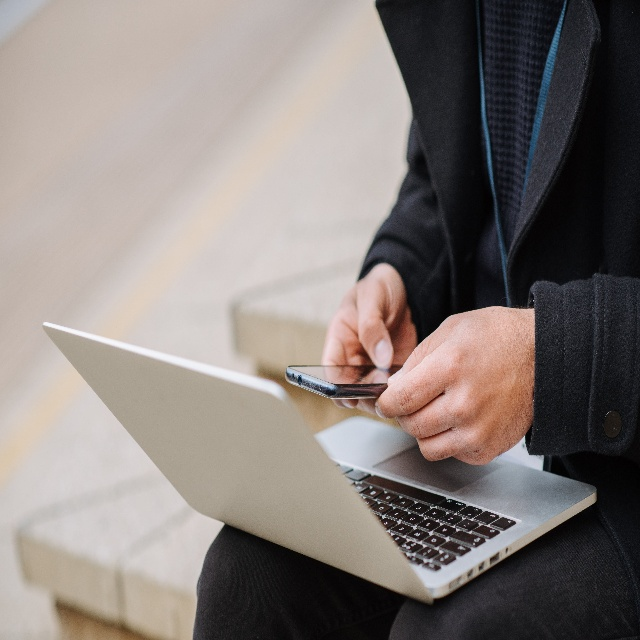Sin_guantes: (374, 304, 533, 464), (315, 264, 416, 413)
